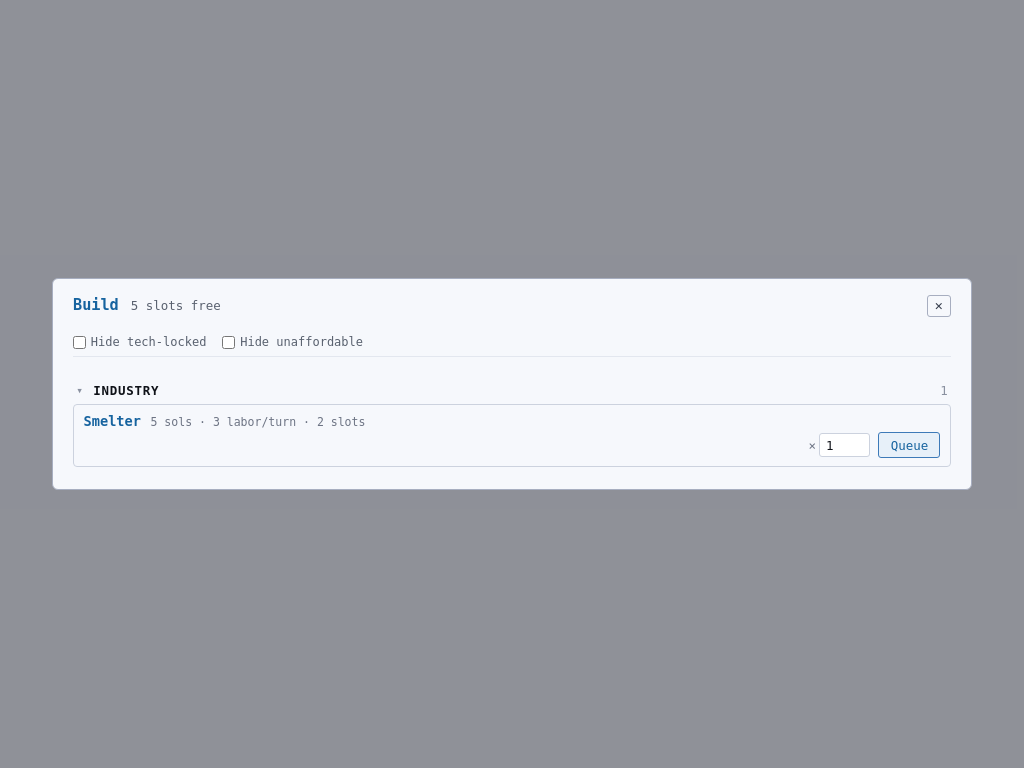
Test: BuildDialog catalogue filters › explains an empty list caused by filters, rather than looking like missing content
This screenshot has width=1024, height=768.
Step 1. Click the checkbox with test id "filter-hide-tech-locked" → {"x": 80, "y": 342}, box [73, 336, 86, 349]
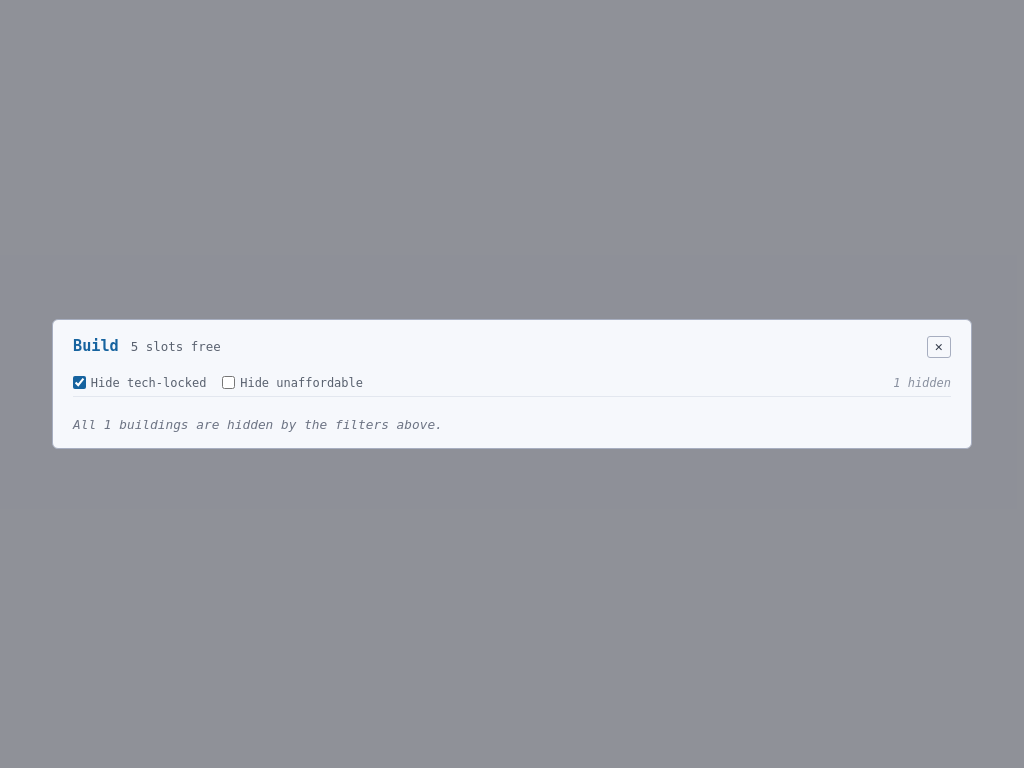
Expected: the text with test id "build-dialog-all-filtered" shows "hidden by the filters", [73, 417, 443, 432]
